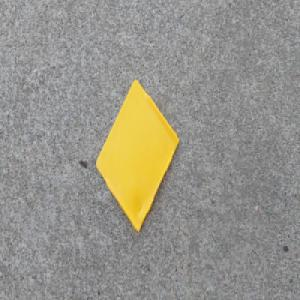PlasticPart: (95, 78, 180, 234)
